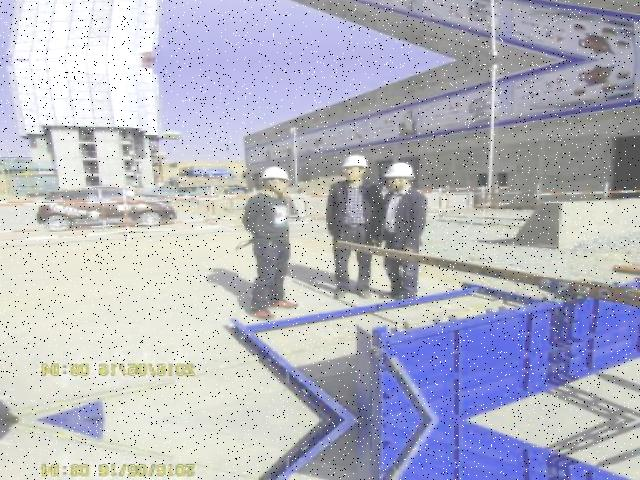Helmet: (335, 150, 378, 174), (385, 158, 421, 183), (260, 163, 294, 187)
